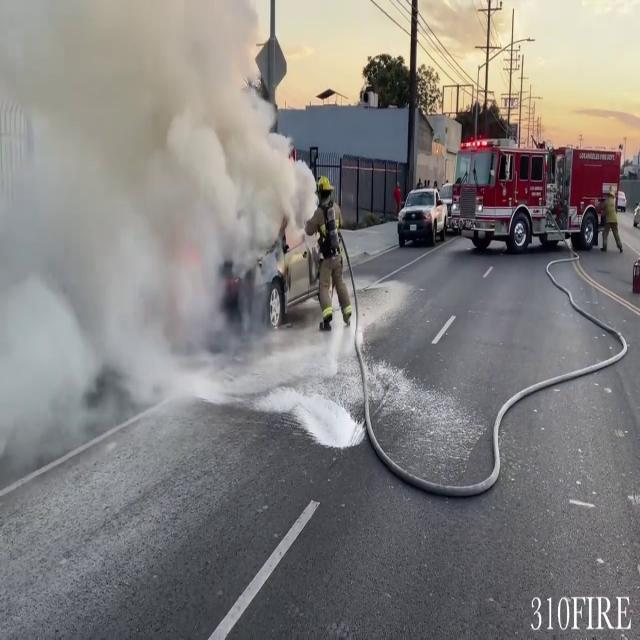Smoke: (0, 0, 312, 451)
